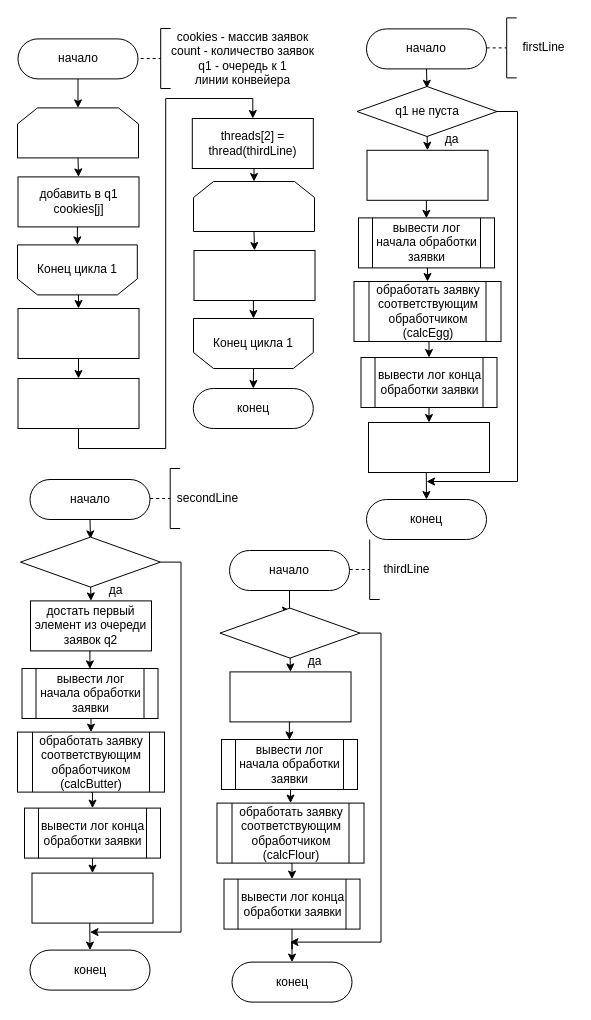
Image size: 591x1020. Some labels were removed from this diagram. The shapes that lost their labels are listed below. From the top down, each one's box as (x1, y1, x2, y2) in pixels, then its label:
(16, 107, 138, 158): Цикл 1 j = 0; j < count; j++
(366, 149, 488, 200): достать первый элемент из очереди заявок q1
(192, 180, 314, 232): Цикл 1 j = 0; j < 3; j++
(193, 250, 315, 300): threads[i].join()
(17, 308, 139, 358): threads[0] = thread(firstLine)
(17, 378, 139, 428): threads[1] = thread(secondLine)
(368, 422, 490, 472): положить заявку в очередь q2
(20, 536, 160, 587): q2 не пуста
(219, 607, 360, 658): q3 не пуста
(229, 671, 351, 722): достать первый элемент из очереди заявок q3
(31, 872, 153, 923): положить заявку в очередь q3
